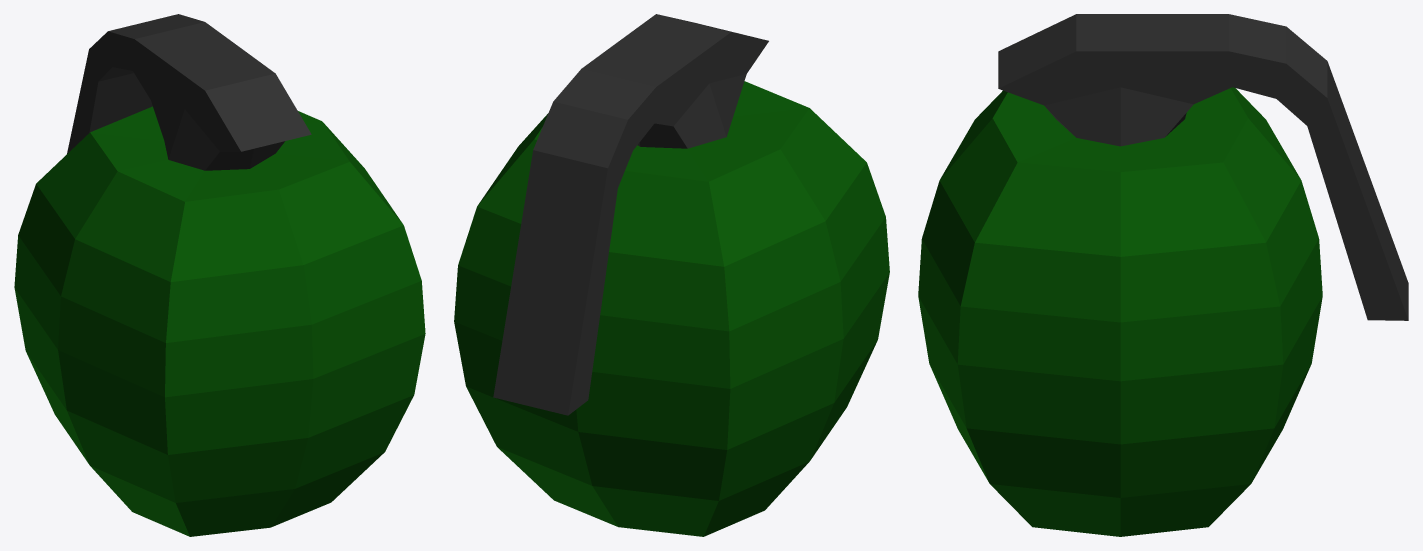
File: grenade.fbx
3 renders of one model, left to right at view 1: azimuth 30°, elevation 25°; view 2: azimuth 150°, elevation 25°; view 3: azimuth 270°, elevation 25°, orthographic. The views are drawn at different scales.
Parts seen in each view (by area): view 1: Cube; view 2: Cube; view 3: Cube.
Boxes of the visible parts, box(x1,y1,x2,y2) form: Cube: box(14, 14, 425, 536); Cube: box(454, 14, 889, 536); Cube: box(918, 14, 1408, 536).
Bounding box in the file's own units: 275 × 344 × 334.
